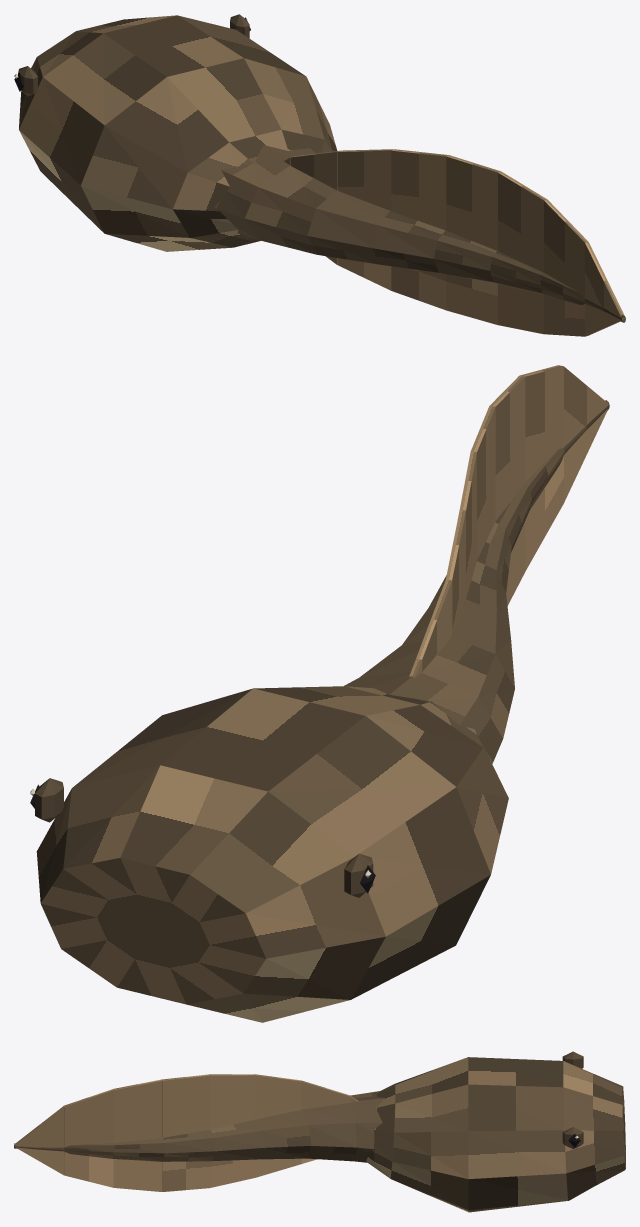
Rendered from mon_mink_tadpole.glb.
The picture shows the model from 3 angles, top to bottom: view 1: azimuth 30°, elevation 25°; view 2: azimuth 150°, elevation 25°; view 3: azimuth 270°, elevation 25°; orthographic projection. The views are drawn at different scales.
Visible parts, largest first — view 1: closed_body; view 2: closed_body; view 3: closed_body.
Boxes of the visible parts, bbox=[...] form: closed_body: bbox=[14, 14, 625, 336]; closed_body: bbox=[30, 365, 609, 1022]; closed_body: bbox=[14, 1051, 625, 1212].
Size of the model in its own units: 0.0295 by 0.023 by 0.0859.
Materials: 1 (1 with a texture image).
